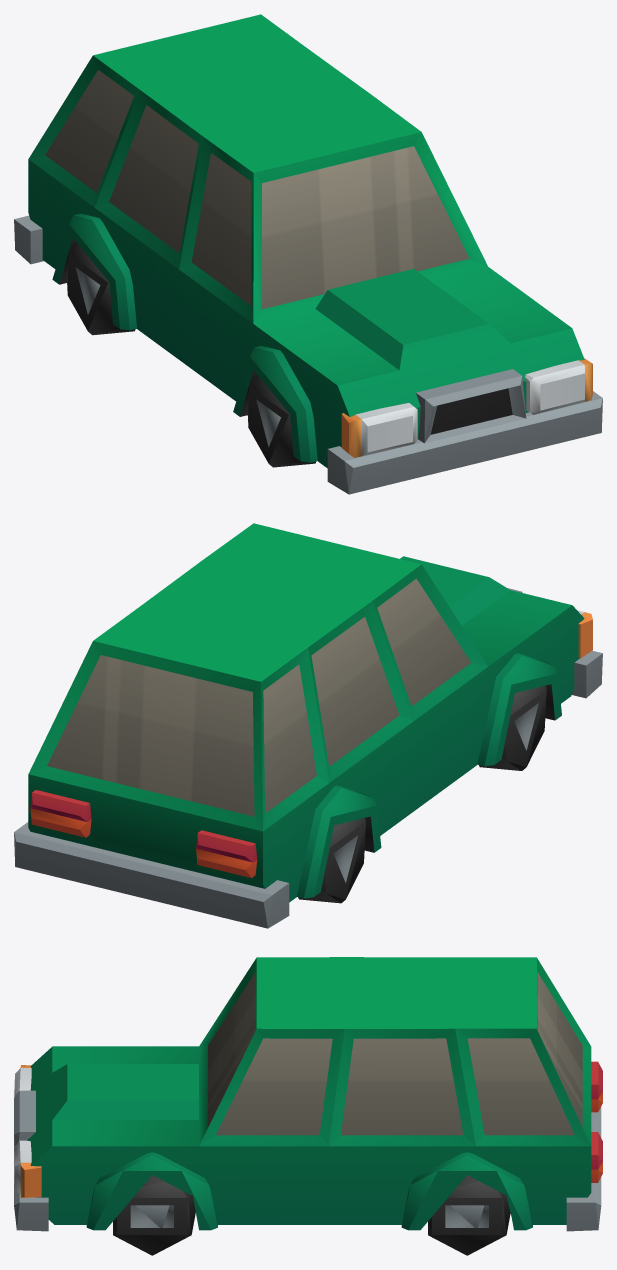
File: cc0-car-stationwagon-lod1.glb
3 views of the same model, one above another, from view 1: azimuth 30°, elevation 25°; view 2: azimuth 150°, elevation 25°; view 3: azimuth 270°, elevation 25° (orthographic). The views are drawn at different scales.
Parts seen in each view (by area): view 1: part_0; view 2: part_0; view 3: part_0.
Part boxes in pixels (box(x1,y1,x2,y2)): part_0: box(14, 14, 602, 494); part_0: box(14, 523, 602, 928); part_0: box(14, 957, 602, 1255).
Size of the model in its own units: 0.419 by 0.3688 by 0.9381.
Materials: 1 (1 with a texture image).
